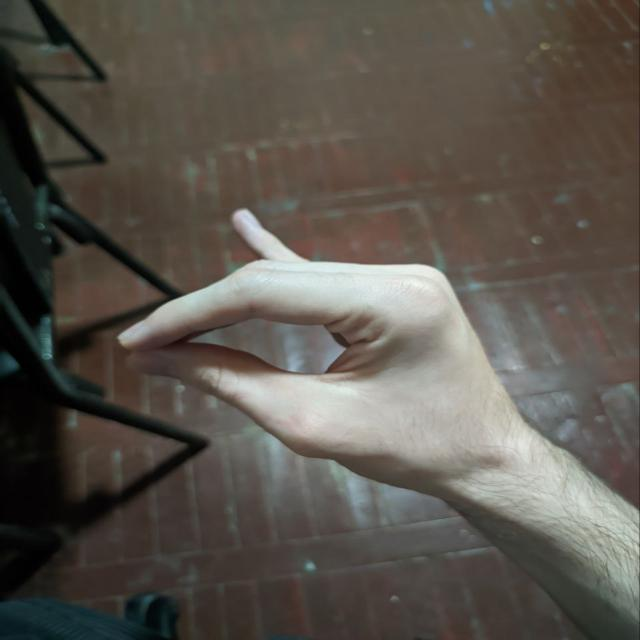iu: (106, 205, 576, 505)
